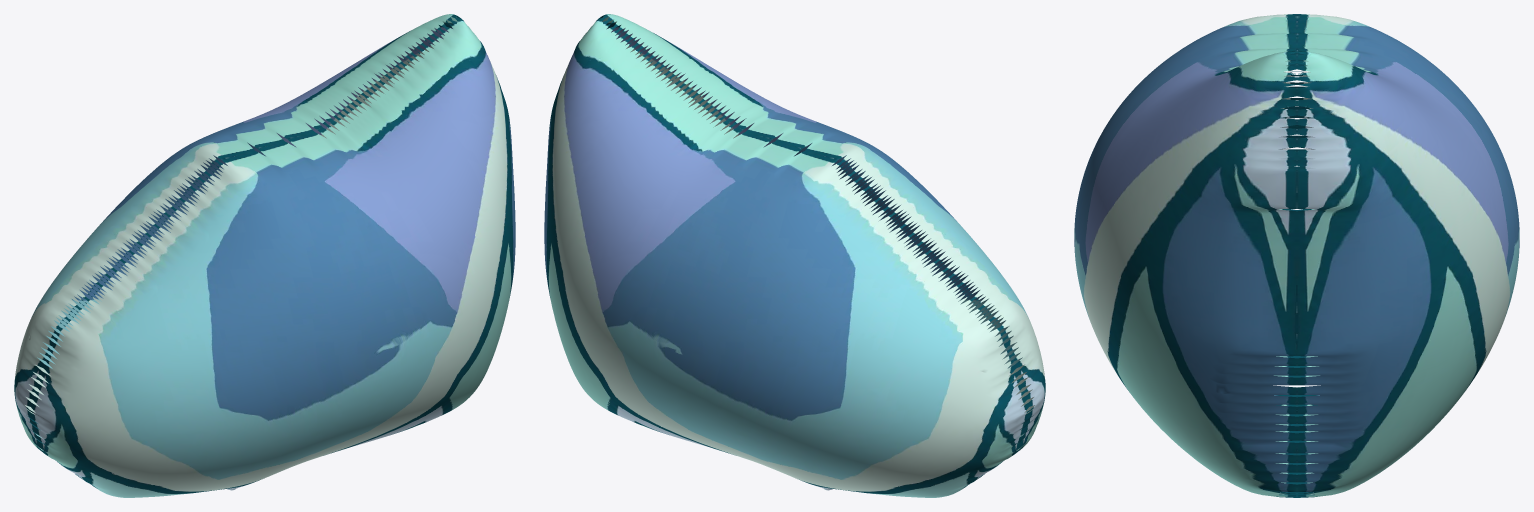
File: middle_ice_terrace.glb
3 views of the same model, side by side, from view 1: azimuth 30°, elevation 25°; view 2: azimuth 150°, elevation 25°; view 3: azimuth 270°, elevation 25° (orthographic). The views are drawn at different scales.
Parts seen in each view (by area): view 1: middle_ice_terrace; view 2: middle_ice_terrace; view 3: middle_ice_terrace.
Part boxes in pixels (box(x1,y1,x2,y2)): middle_ice_terrace: box(14, 14, 515, 497); middle_ice_terrace: box(544, 14, 1045, 497); middle_ice_terrace: box(1074, 14, 1519, 497).
Size of the model in its own units: 0.9883 by 0.804 by 0.6677.
Materials: 1 (1 with a texture image).
